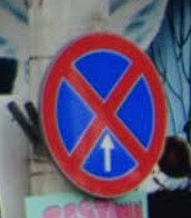oprirea_interzisa: (37, 26, 170, 200)
